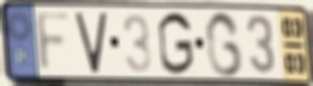3: (245, 11, 278, 77), (122, 13, 153, 74)
F: (34, 9, 73, 75)
G: (204, 10, 245, 80), (156, 10, 196, 77)
V: (73, 10, 109, 76)
